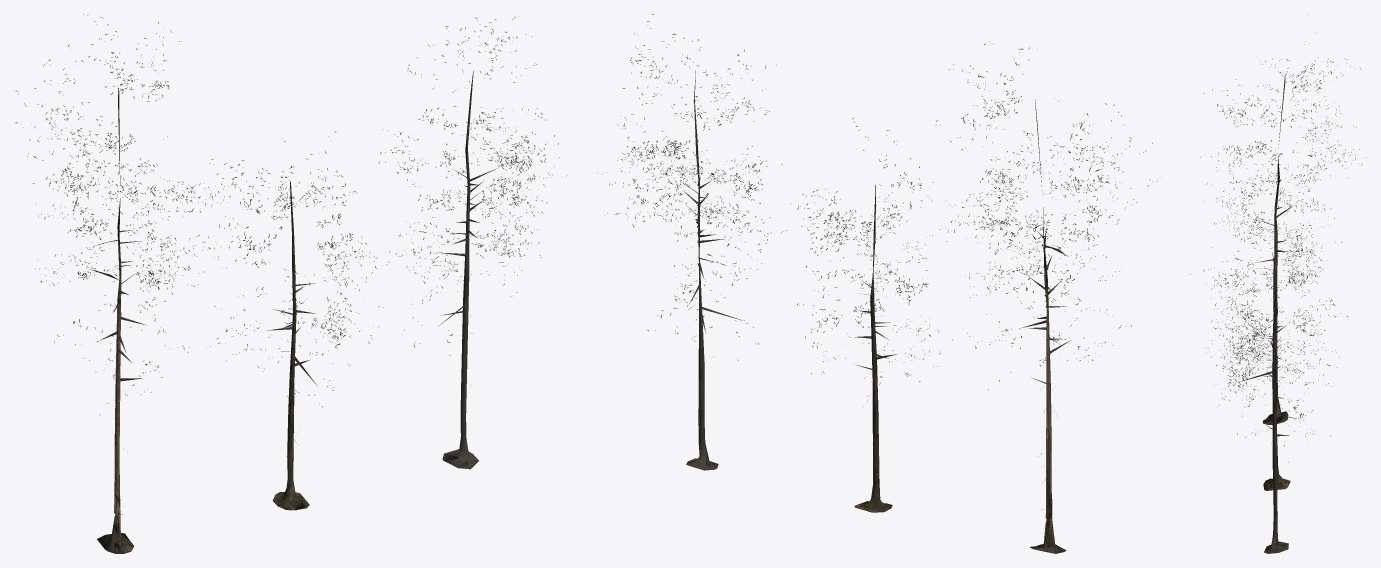
The model's file is pine-runtime.glb.
3 renders of one model, left to right at view 1: azimuth 30°, elevation 25°; view 2: azimuth 150°, elevation 25°; view 3: azimuth 270°, elevation 25°, orthographic. The views are drawn at different scales.
Visible parts, largest first — view 1: pine_tree_01_a_LOD0, pine_tree_01_c_LOD0, pine_tree_01_b_LOD0; view 2: pine_tree_01_a_LOD0, pine_tree_01_c_LOD0, pine_tree_01_b_LOD0; view 3: pine_tree_01_c_LOD0, pine_tree_01_a_LOD0, pine_tree_01_b_LOD0.
Boxes of the visible parts, box(x1,y1,x2,y2) form: pine_tree_01_a_LOD0: box(14, 14, 230, 553); pine_tree_01_c_LOD0: box(378, 16, 567, 469); pine_tree_01_b_LOD0: box(203, 131, 389, 510); pine_tree_01_a_LOD0: box(935, 41, 1161, 553); pine_tree_01_c_LOD0: box(597, 14, 787, 470); pine_tree_01_b_LOD0: box(791, 117, 952, 512); pine_tree_01_c_LOD0: box(1205, 222, 1347, 553); pine_tree_01_a_LOD0: box(1200, 14, 1366, 424); pine_tree_01_b_LOD0: box(1190, 202, 1341, 490).
Bounding box in the file's own units: 21.18 × 20.17 × 8.02.
6 materials, 6 textured.
